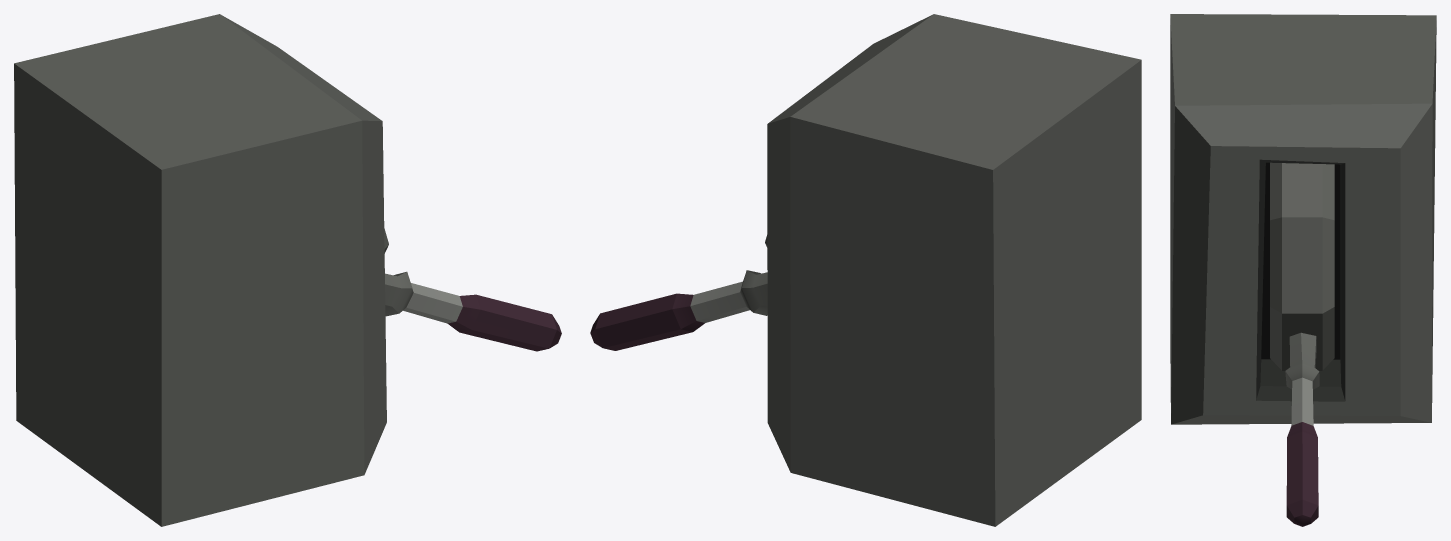
Rendered from lever01.fbx.
The picture shows the model from 3 angles, left to right: view 1: azimuth 30°, elevation 25°; view 2: azimuth 150°, elevation 25°; view 3: azimuth 270°, elevation 25°; orthographic projection. The views are drawn at different scales.
Visible parts, largest first — view 1: lever_exterior, lever_lever; view 2: lever_exterior, lever_lever; view 3: lever_exterior, lever_lever.
Part boxes in pixels (x1,y1,x2,y2): lever_exterior: (14, 14, 386, 526); lever_lever: (384, 228, 561, 351); lever_exterior: (767, 14, 1141, 526); lever_lever: (590, 235, 767, 350); lever_exterior: (1170, 14, 1436, 424); lever_lever: (1270, 162, 1334, 526).
Size of the model in its own units: 6.98 by 5.06 by 3.78.
